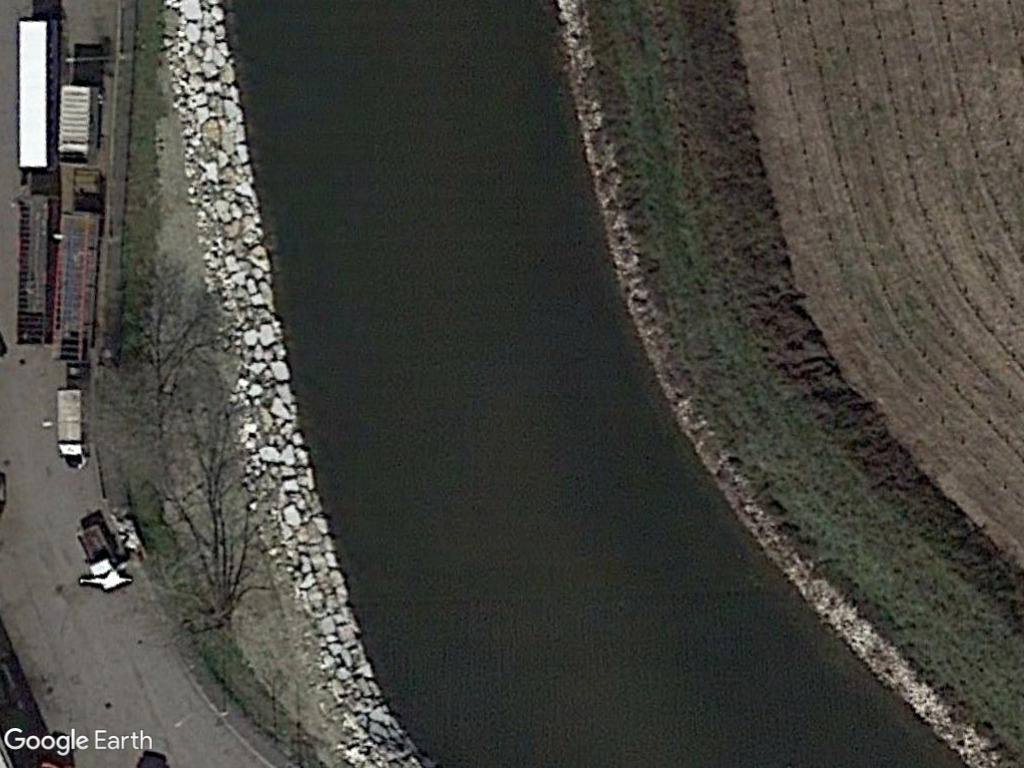longvehicle: (11, 15, 59, 175)
truck: (52, 385, 89, 463)
